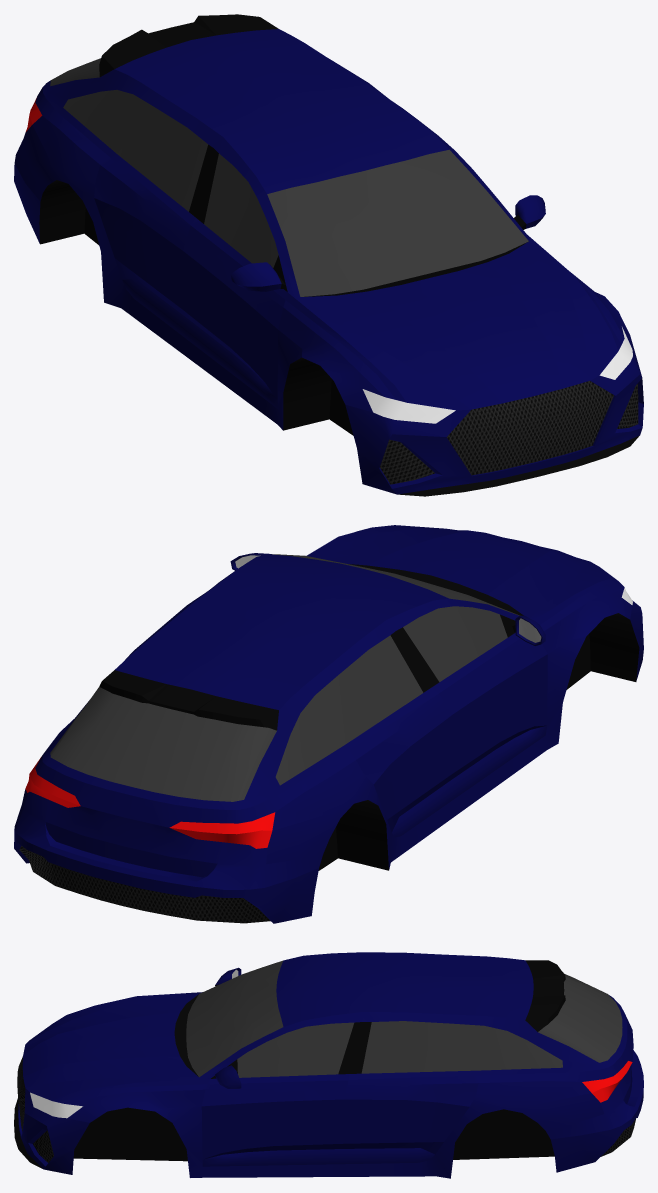
The picture shows the model from 3 angles, top to bottom: view 1: azimuth 30°, elevation 25°; view 2: azimuth 150°, elevation 25°; view 3: azimuth 270°, elevation 25°; orthographic projection. The views are drawn at different scales.
Parts seen in each view (by area): view 1: rs6; view 2: rs6; view 3: rs6.
Part boxes in pixels (left/top/right/bottom): rs6: left=14, top=14, right=643, bottom=496; rs6: left=14, top=525, right=643, bottom=923; rs6: left=14, top=952, right=643, bottom=1178.
Bounding box in the file's own units: 1.74 × 1.06 × 4.06.
4 materials, 2 textured.
